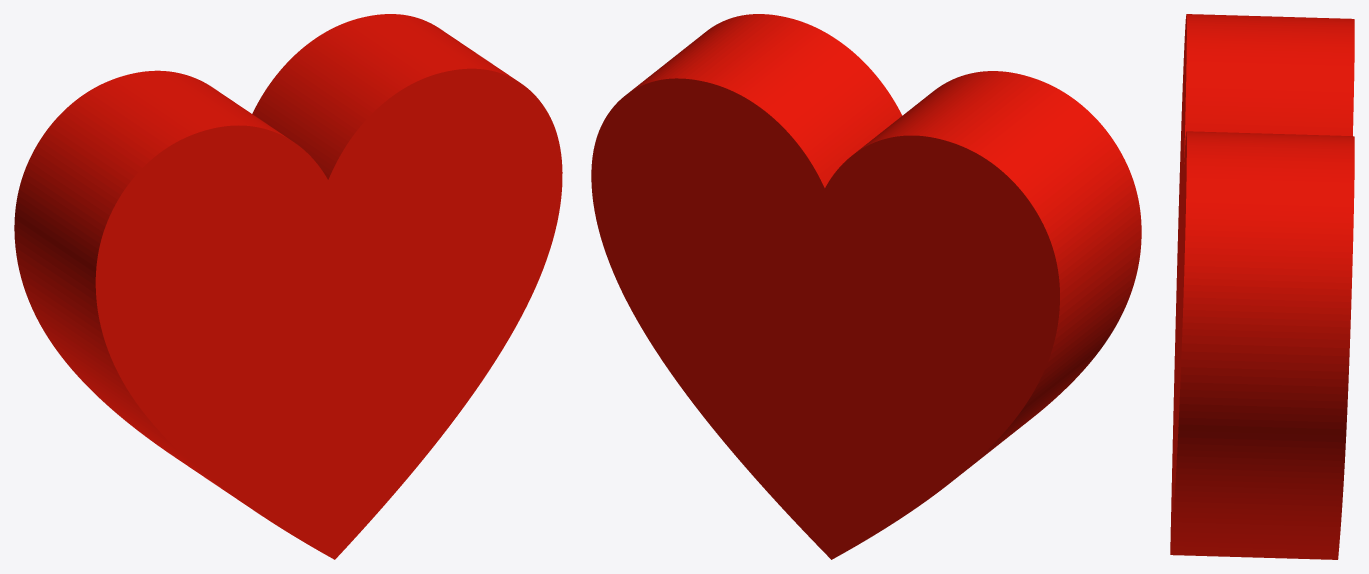
Rendered from Heart.fbx.
3 views of the same model, side by side, from view 1: azimuth 30°, elevation 25°; view 2: azimuth 150°, elevation 25°; view 3: azimuth 270°, elevation 25° (orthographic). The views are drawn at different scales.
Parts seen in each view (by area): view 1: Text; view 2: Text; view 3: Text.
Part boxes in pixels (x1,y1,x2,y2): Text: [14, 14, 562, 559]; Text: [591, 14, 1141, 559]; Text: [1170, 14, 1354, 559].
Size of the model in its own units: 109 by 103 by 36.26.
